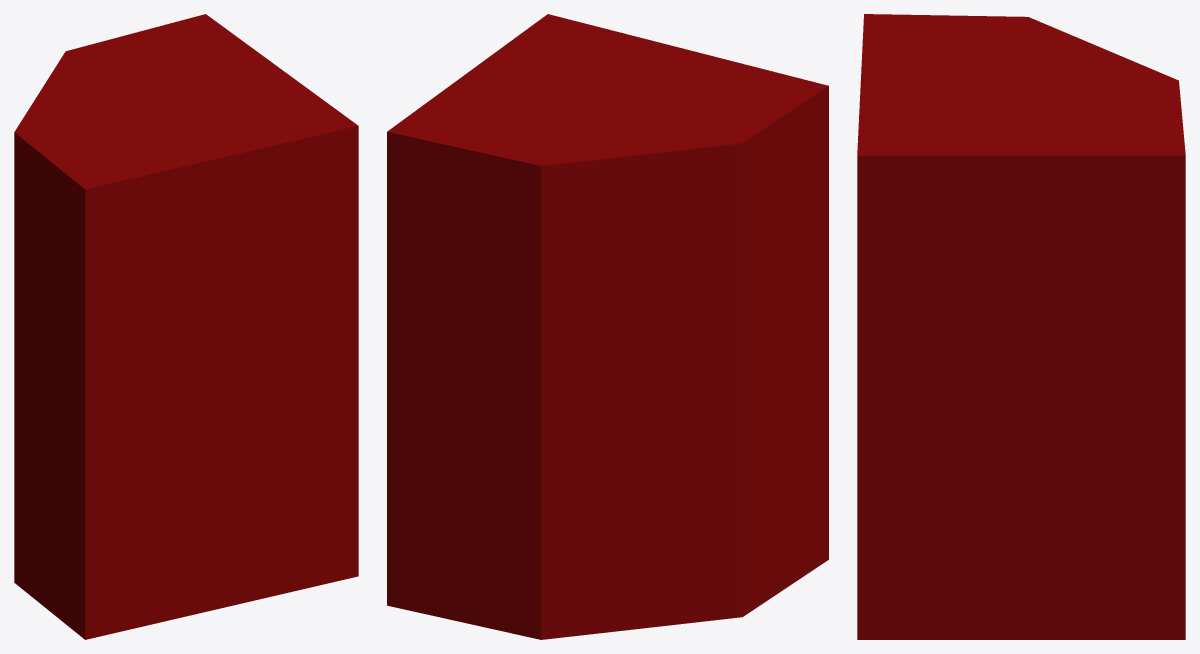
Rendered from New Game Object (93).obj.
3 renders of one model, left to right at view 1: azimuth 30°, elevation 25°; view 2: azimuth 150°, elevation 25°; view 3: azimuth 270°, elevation 25°, orthographic. The views are drawn at different scales.
Parts seen in each view (by area): view 1: New Game Object (93)_0, New Game Object (93)_1; view 2: New Game Object (93)_0, New Game Object (93)_1; view 3: New Game Object (93)_0, New Game Object (93)_1.
Boxes of the visible parts, left/top/right/bottom form: New Game Object (93)_0: left=14, top=126, right=358, bottom=639; New Game Object (93)_1: left=14, top=14, right=358, bottom=189; New Game Object (93)_0: left=387, top=86, right=828, bottom=639; New Game Object (93)_1: left=387, top=14, right=828, bottom=165; New Game Object (93)_0: left=857, top=155, right=1185, bottom=639; New Game Object (93)_1: left=857, top=14, right=1185, bottom=155.
Size of the model in its own units: 9.83 by 15.65 by 9.63.
